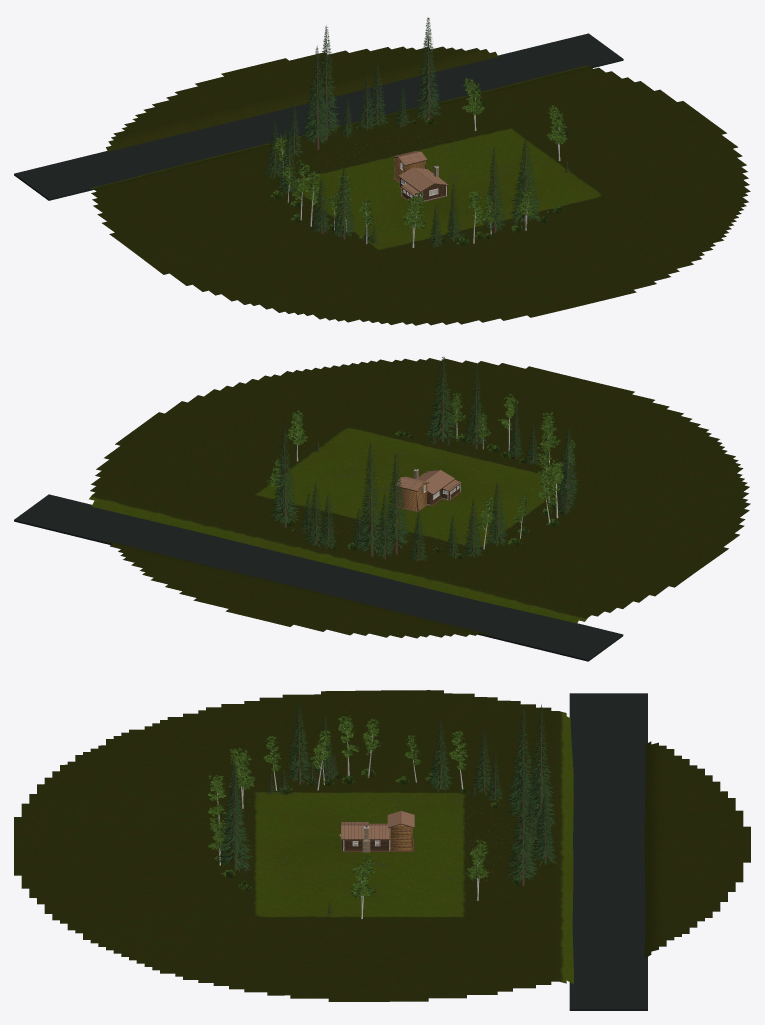
The model's file is plan_two_story_545_classic_basic.glb.
3 views of the same model, one above another, from view 1: azimuth 30°, elevation 25°; view 2: azimuth 150°, elevation 25°; view 3: azimuth 270°, elevation 25° (orthographic). The views are drawn at different scales.
Parts seen in each view (by area): view 1: Ground, River, P_Fir0_inst.073, P_Fir1_inst.067, P_Fir0_inst.075, P_Spruce1_inst.042, P_Spruce0_inst.046, P_Fir0_inst.042, P_Spruce2_inst.079, P_Birch1_inst.040, P_Spruce3_inst.061, EX_Roof_metal (+5 smaller); view 2: Ground, River, P_Fir0_inst.075, P_Fir0_inst.073, P_Spruce1_inst.042, P_Fir1_inst.067, P_Fir0_inst.042, P_Spruce0_inst.073, P_Spruce3_inst.061, P_Spruce0_inst.046, P_Spruce2_inst.079, P_Spruce2_inst.072 (+4 smaller); view 3: Ground, River, P_Fir0_inst.075, P_Fir0_inst.073, P_Spruce1_inst.042, P_Fir1_inst.067, P_Spruce0_inst.046, P_Spruce3_inst.061, P_Spruce2_inst.079, GrassTufts, EX_Roof_metal, P_Birch1_inst.040 (+6 smaller).
Part boxes in pixels (x1=…): Ground: x1=90, y1=46, x2=750, y2=325; River: x1=14, y1=33, x2=623, y2=200; P_Fir0_inst.073: x1=414, y1=17, x2=442, y2=120; P_Fir1_inst.067: x1=302, y1=45, x2=331, y2=149; P_Fir0_inst.075: x1=312, y1=25, x2=342, y2=139; P_Spruce1_inst.042: x1=509, y1=137, x2=541, y2=224; P_Spruce0_inst.046: x1=332, y1=167, x2=355, y2=239; P_Fir0_inst.042: x1=482, y1=147, x2=506, y2=232; P_Spruce2_inst.079: x1=368, y1=63, x2=388, y2=126; P_Birch1_inst.040: x1=403, y1=192, x2=426, y2=247; P_Spruce3_inst.061: x1=277, y1=130, x2=298, y2=194; EX_Roof_metal: x1=399, y1=167, x2=447, y2=191; Ground: x1=89, y1=358, x2=750, y2=638; River: x1=14, y1=494, x2=623, y2=661; P_Fir0_inst.075: x1=355, y1=442, x2=383, y2=556; P_Fir0_inst.073: x1=269, y1=421, x2=299, y2=527; P_Spruce1_inst.042: x1=425, y1=357, x2=458, y2=441; P_Fir1_inst.067: x1=383, y1=453, x2=410, y2=554; P_Fir0_inst.042: x1=465, y1=363, x2=487, y2=449; P_Spruce0_inst.073: x1=374, y1=494, x2=394, y2=559; P_Spruce3_inst.061: x1=486, y1=483, x2=508, y2=547; P_Spruce0_inst.046: x1=557, y1=426, x2=579, y2=498; P_Spruce2_inst.079: x1=304, y1=483, x2=325, y2=548; P_Spruce2_inst.072: x1=463, y1=500, x2=483, y2=558; Ground: x1=14, y1=690, x2=750, y2=1001; River: x1=569, y1=693, x2=647, y2=1010; P_Fir0_inst.075: x1=525, y1=704, x2=555, y2=832; P_Fir0_inst.073: x1=506, y1=765, x2=539, y2=885; P_Spruce1_inst.042: x1=216, y1=773, x2=253, y2=872; P_Fir1_inst.067: x1=506, y1=707, x2=533, y2=824; P_Spruce0_inst.046: x1=286, y1=703, x2=311, y2=784; P_Spruce3_inst.061: x1=427, y1=719, x2=453, y2=792; P_Spruce2_inst.079: x1=533, y1=795, x2=556, y2=867; GrassTufts: x1=250, y1=788, x2=513, y2=903; EX_Roof_metal: x1=341, y1=823, x2=389, y2=839; P_Birch1_inst.040: x1=228, y1=747, x2=255, y2=808.
Bounding box in the file's own units: 154 × 32.12 × 152.
33 materials, 14 textured.
